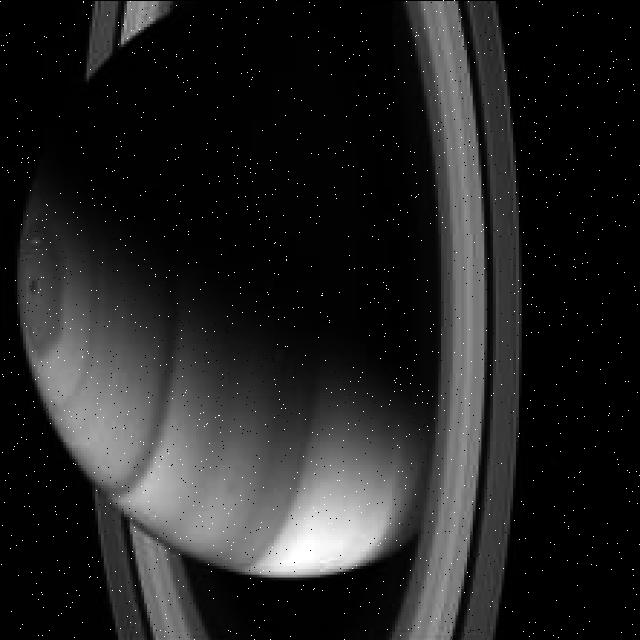Saturn: (17, 0, 525, 640)
